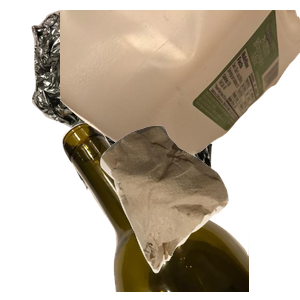glass: (60, 120, 300, 300)
metal: (29, 10, 269, 190)
plastic: (60, 10, 300, 160)
trash: (98, 123, 300, 300)
